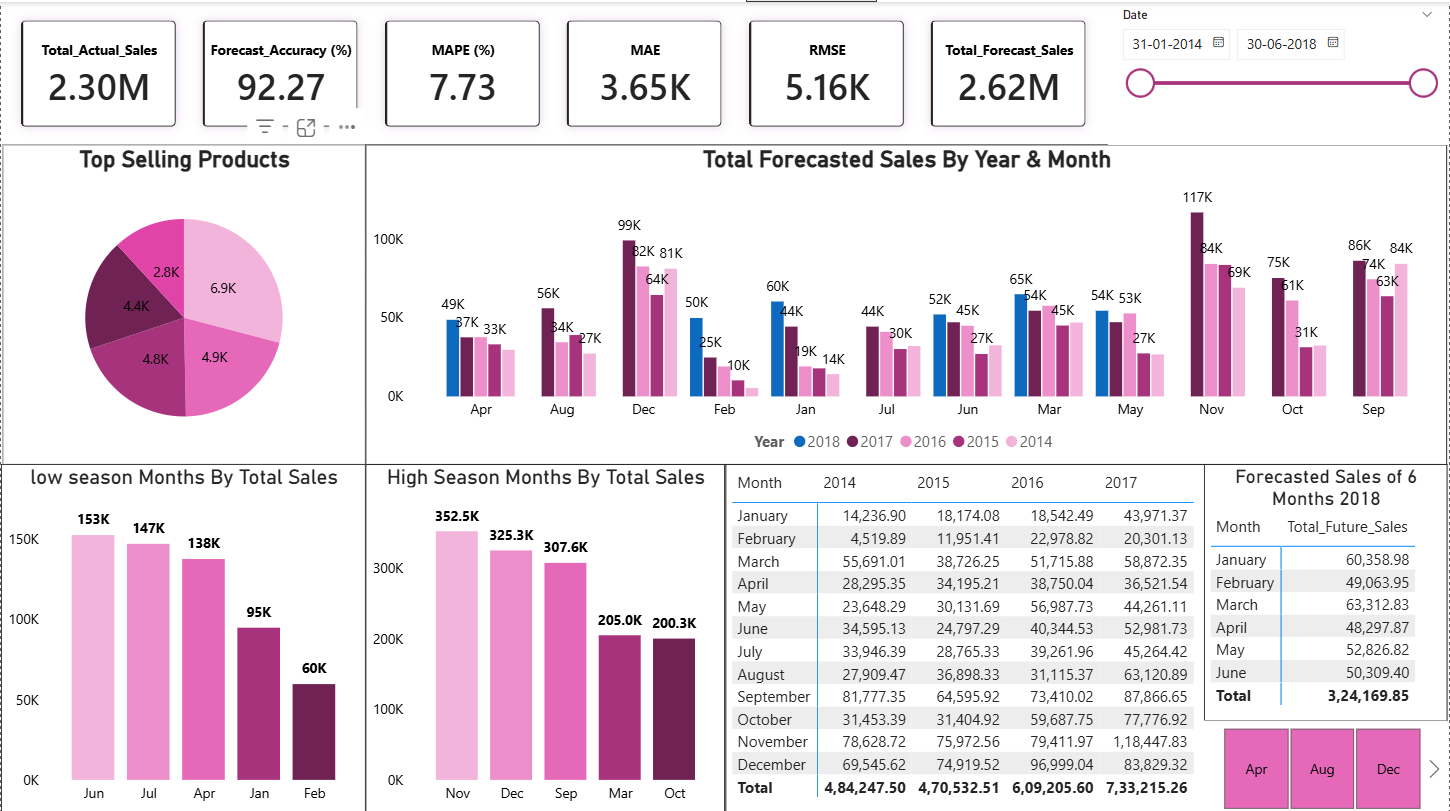

Layout of this report page (visuals, bound fields, positions):
{"tool":"powerbi","page":{"name":"Page 1","canvas":[1280,720],"ordinal":0},"visuals":[{"type":"cardVisual","fields":{"Data":["sales_forecast_powerbi.Total_Actual_Sales","sales_forecast_powerbi.Forecast_Accuracy (%)","sales_forecast_powerbi.MAPE (%)","sales_forecast_powerbi.MAE","sales_forecast_powerbi.RMSE","sales_forecast_powerbi.Total_Forecast_Sales"]},"box":[1.9,0,977,126.6],"z":0},{"type":"pivotTable","fields":{"Rows":["sales_forecast_powerbi.YearMonth.Variation.Date Hierarchy.Month"],"Values":["Sum(sales_forecast_powerbi.Actual_sales)"],"Columns":["sales_forecast_powerbi.Year"]},"box":[640.5,408.8,424,310.4],"z":1000},{"type":"pivotTable","title":"Forecasted Sales of 6 Months 2018","fields":{"Values":["sales_forecast_powerbi.Total_Future_Sales"],"Rows":["sales_forecast_powerbi.YearMonth.Variation.Date Hierarchy.Month"]},"box":[1064.5,408.8,215,227.1],"z":2000},{"type":"pieChart","title":"Top Selling Products","fields":{"Category":["SuperStoreCleaned.Product Name"],"Y":["Sum(SuperStoreCleaned.Sales)"]},"box":[1.5,125.7,321,283.2],"z":3000},{"type":"lineStackedColumnComboChart","title":"low season Months By Total Sales","fields":{"Category":["sales_forecast_powerbi.Month_Name"],"Y":["sales_forecast_powerbi.Total_Actual_Sales"]},"box":[0,408.8,322.5,310.4],"z":4000},{"type":"lineStackedColumnComboChart","title":"High Season Months By Total Sales","fields":{"Category":["sales_forecast_powerbi.Month_Name"],"Y":["sales_forecast_powerbi.Total_Actual_Sales"]},"box":[322.5,408.8,318,310.4],"z":5000},{"type":"clusteredColumnChart","title":"Total Forecasted Sales By Year & Month","fields":{"Category":["sales_forecast_powerbi.Month_Name"],"Series":["sales_forecast_powerbi.YearMonth.Variation.Date Hierarchy.Year"],"Y":["sales_forecast_powerbi.Total_Forecast_Sales"]},"box":[322.5,125.7,957,283.2],"z":6000},{"type":"slicer","fields":{"Values":["sales_forecast_powerbi.Date"]},"box":[979.7,0,299.8,125.7],"z":7000},{"type":"slicer","fields":{"Values":["sales_forecast_powerbi.Month_Name"]},"box":[1056.4,635,223,85],"z":8000}]}

Visuals, with their boxes in screenshot pixels (x1, y1, x2, y2), scaled from the page's 1280x720 canvas onto the 1450x811 screenshot:
cardVisual - sales_forecast_powerbi.Total_Actual_Sales x sales_forecast_powerbi.Forecast_Accuracy (%): (2, 0, 1109, 143)
pivotTable - sales_forecast_powerbi.YearMonth.Variation.Date Hierarchy.Month x Sum(sales_forecast_powerbi.Actual_sales): (726, 460, 1206, 810)
"Forecasted Sales of 6 Months 2018" pivotTable: (1206, 460, 1449, 716)
"Top Selling Products" pieChart: (2, 142, 365, 461)
"low season Months By Total Sales" lineStackedColumnComboChart: (0, 460, 365, 810)
"High Season Months By Total Sales" lineStackedColumnComboChart: (365, 460, 726, 810)
"Total Forecasted Sales By Year & Month" clusteredColumnChart: (365, 142, 1449, 461)
slicer - sales_forecast_powerbi.Date: (1110, 0, 1449, 142)
slicer - sales_forecast_powerbi.Month_Name: (1197, 715, 1449, 810)
